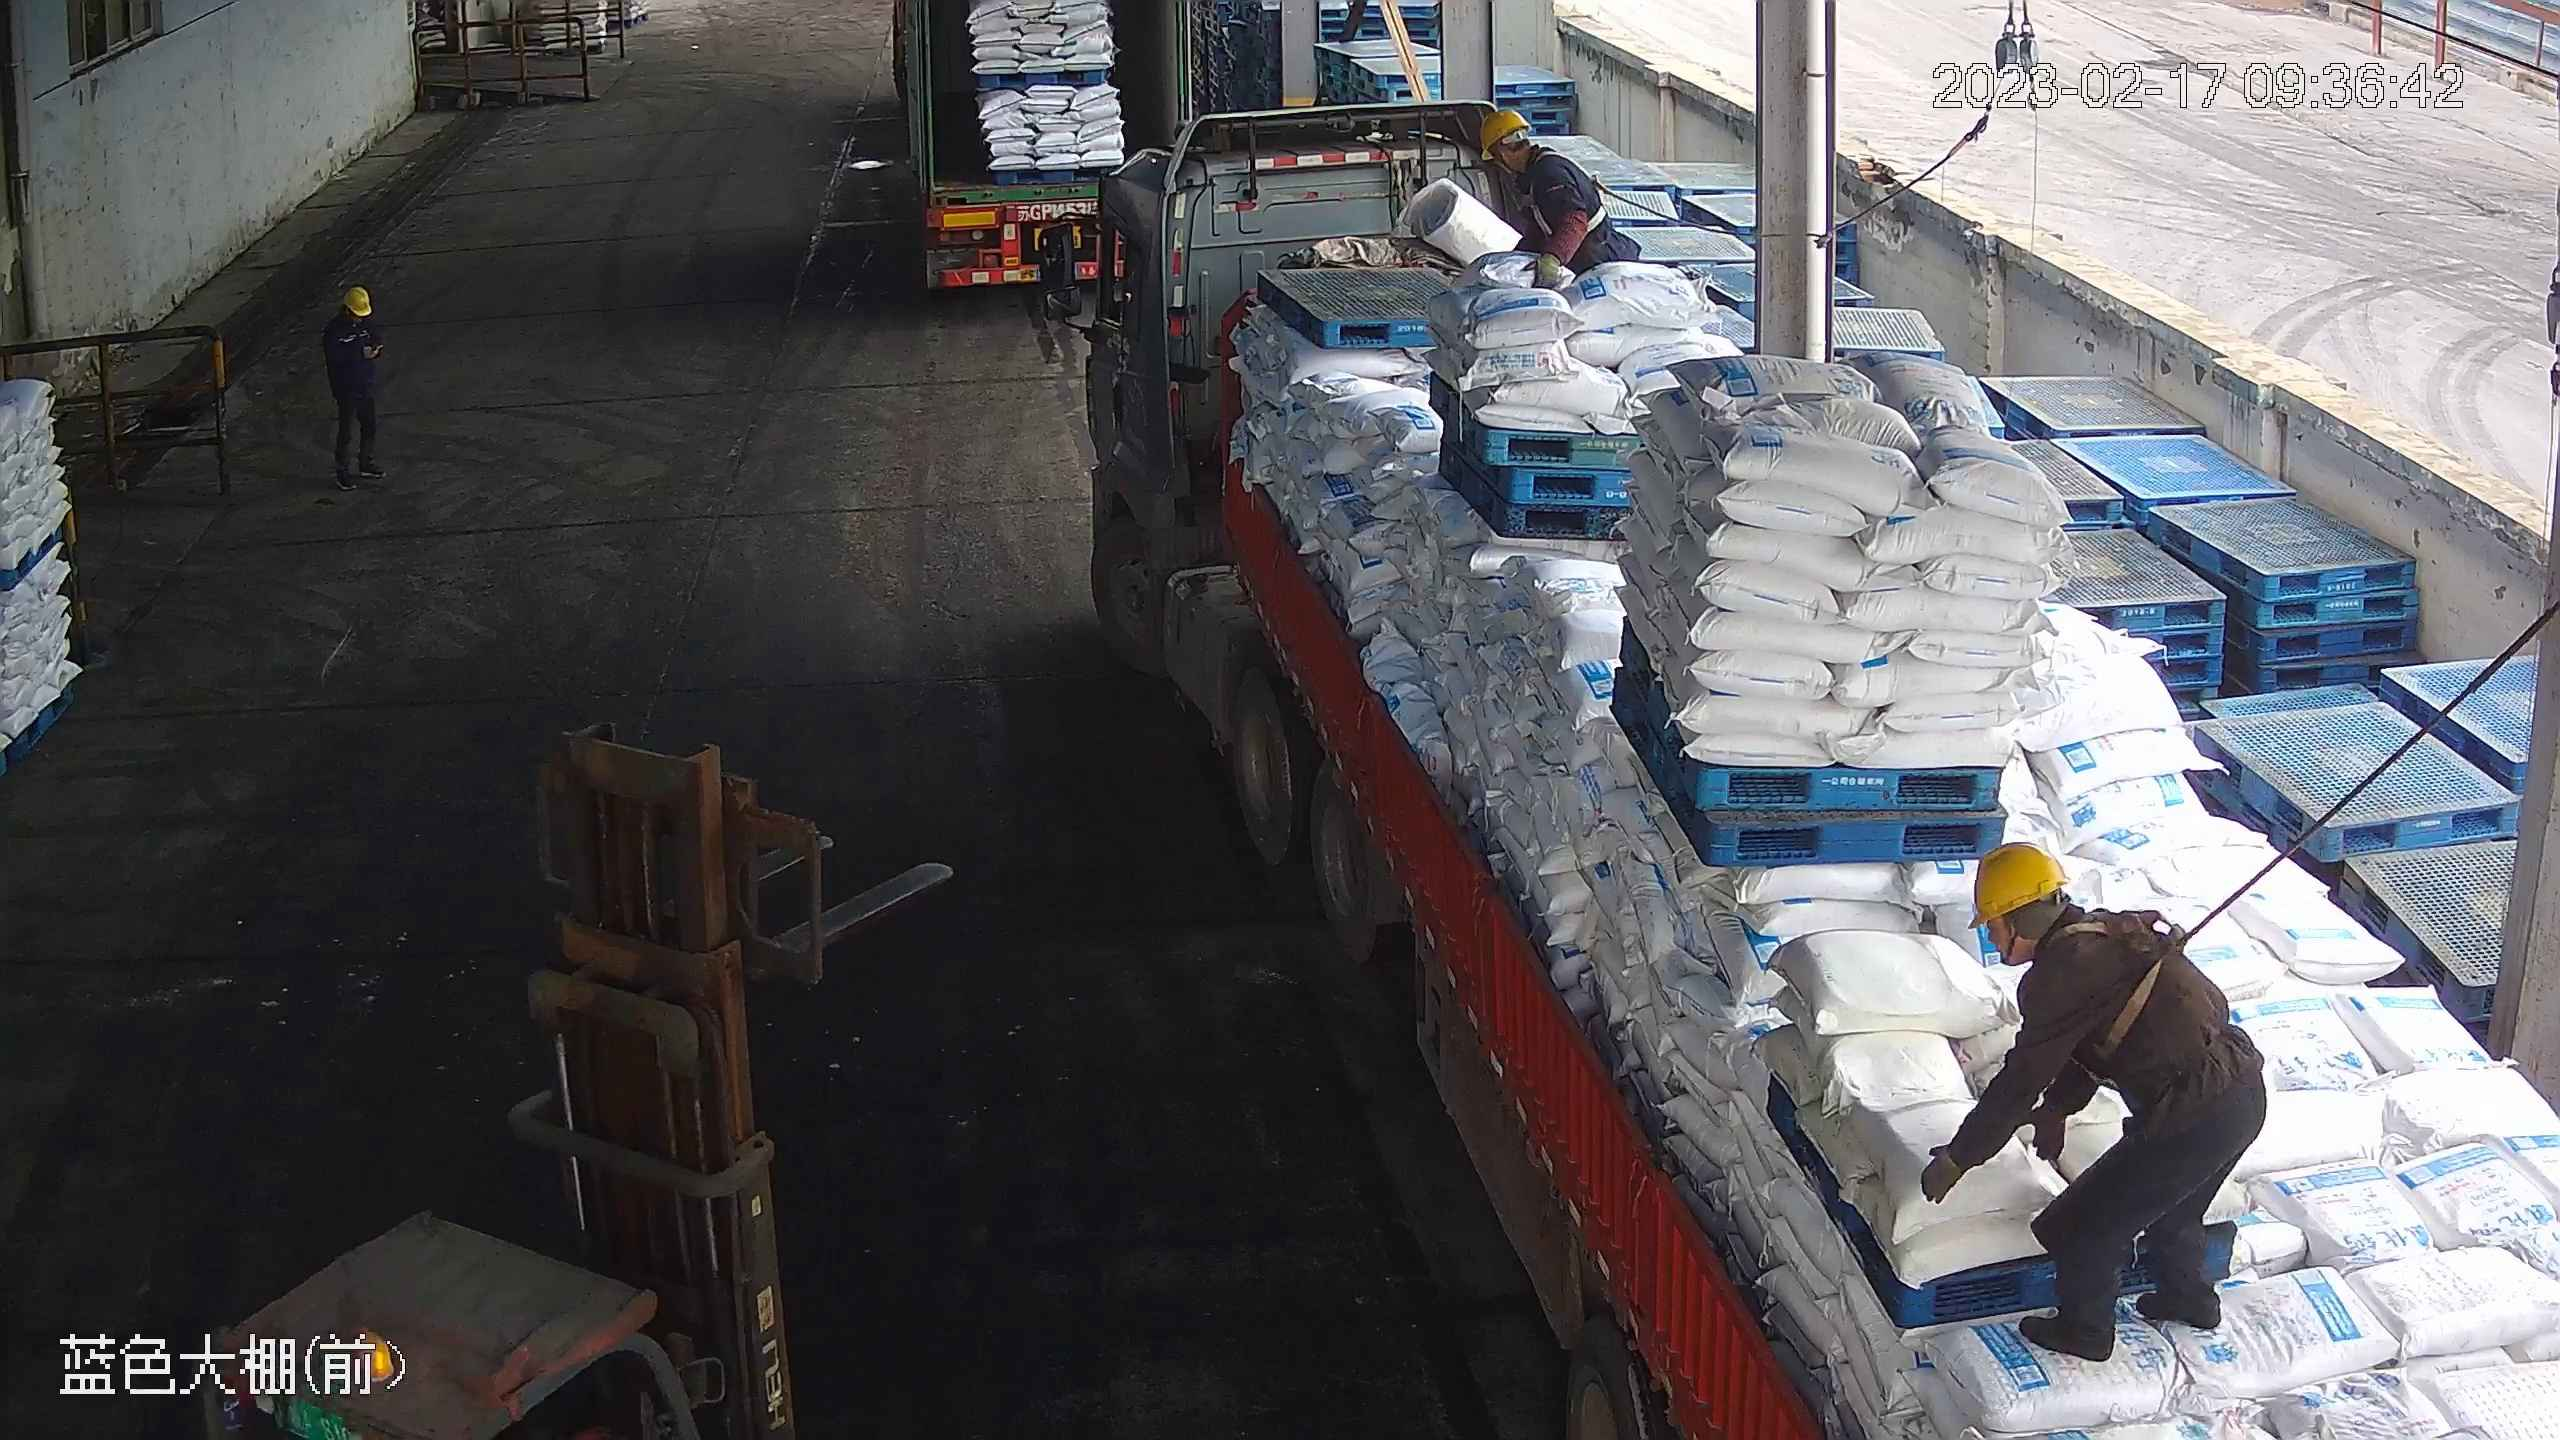belt: (2064, 906, 2206, 1055), (1525, 147, 1616, 233)
head: (1963, 840, 2168, 1009), (1479, 108, 1577, 197), (323, 285, 380, 349)
helmet: (1963, 839, 2070, 927), (1478, 107, 1528, 157), (342, 285, 373, 312)
people: (1917, 841, 2272, 1365), (1478, 106, 1636, 298), (321, 285, 392, 490)
truck: (1046, 111, 2555, 1440), (875, 1, 1213, 317)
